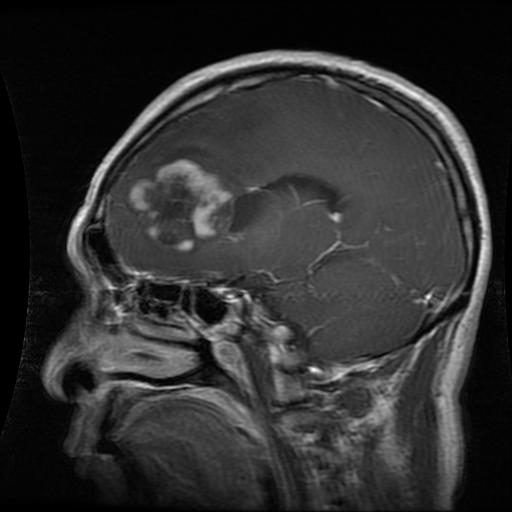Gliomia_tumour: (126, 157, 263, 250)
